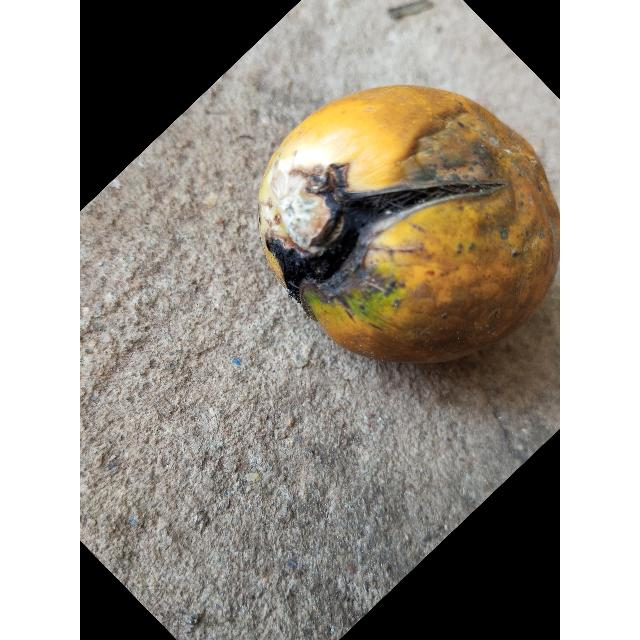damaged: (258, 84, 560, 367)
